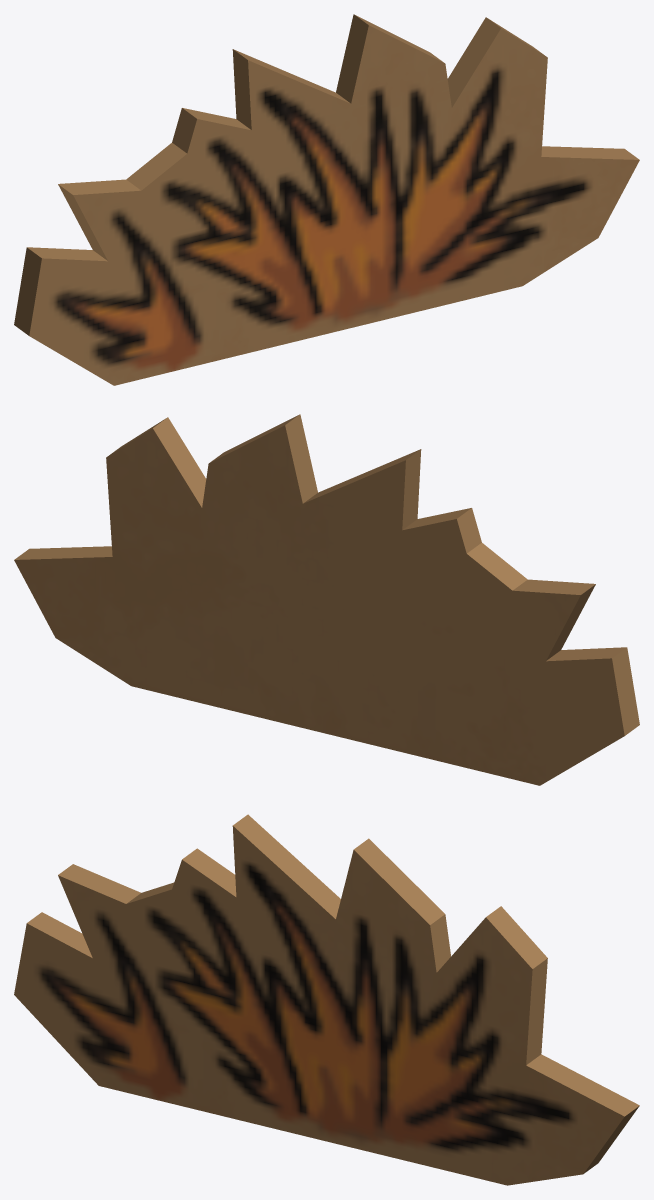
The model's file is SM_HerbesSeches_VF.fbx.
The picture shows the model from 3 angles, top to bottom: view 1: azimuth 30°, elevation 25°; view 2: azimuth 150°, elevation 25°; view 3: azimuth 330°, elevation 25°; orthographic projection.
Parts seen in each view (by area): view 1: Herbes; view 2: Herbes; view 3: Herbes.
Boxes of the visible parts, box(x1,y1,x2,y2) form: Herbes: box(14, 14, 639, 385); Herbes: box(14, 414, 639, 785); Herbes: box(14, 814, 639, 1185).
Bounding box in the file's own units: 129 × 60.29 × 5.59.
